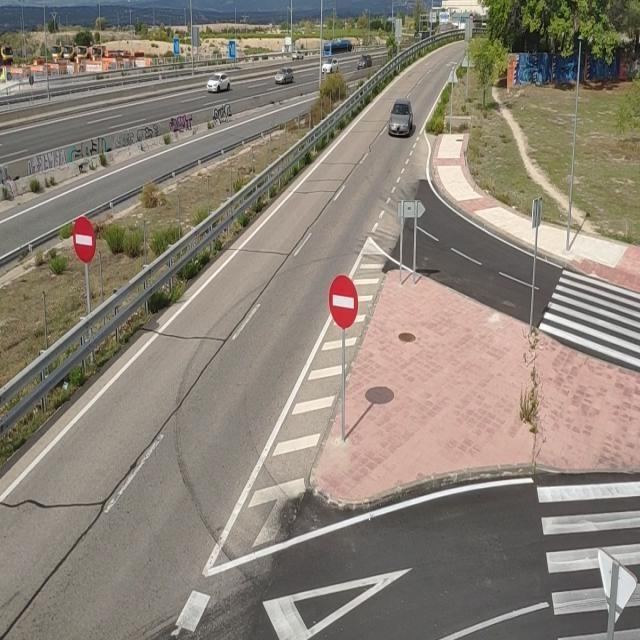Car: (385, 96, 416, 142), (204, 72, 233, 94), (272, 65, 297, 85), (322, 55, 342, 78), (354, 54, 374, 74), (293, 51, 307, 64)
Truck: (323, 39, 354, 55)
